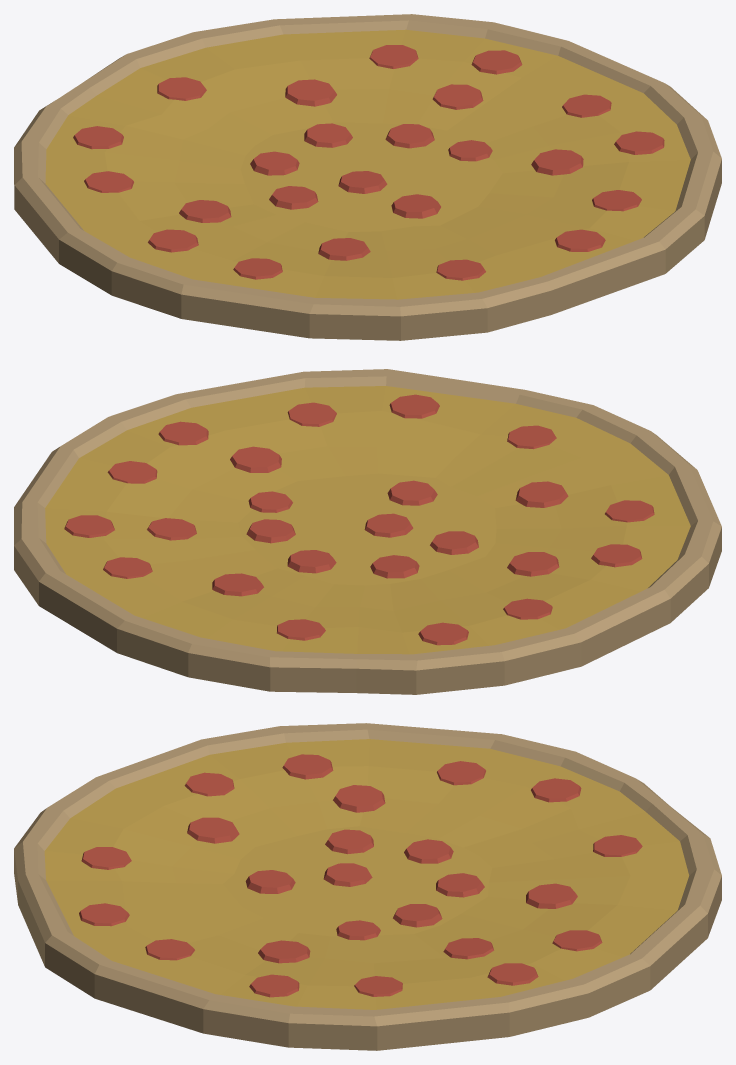
The model's file is Pizza.glb.
3 renders of one model, top to bottom at view 1: azimuth 30°, elevation 25°; view 2: azimuth 150°, elevation 25°; view 3: azimuth 270°, elevation 25°, orthographic.
Visible parts, largest first — view 1: Pizza; view 2: Pizza; view 3: Pizza.
Part boxes in pixels (box(x1,y1,x2,y2)): Pizza: box(14, 14, 721, 340); Pizza: box(14, 369, 721, 694); Pizza: box(14, 723, 721, 1050).
Size of the model in its own units: 3.37 by 0.1609 by 3.36.
